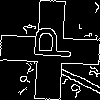P: (25, 25, 72, 60)
